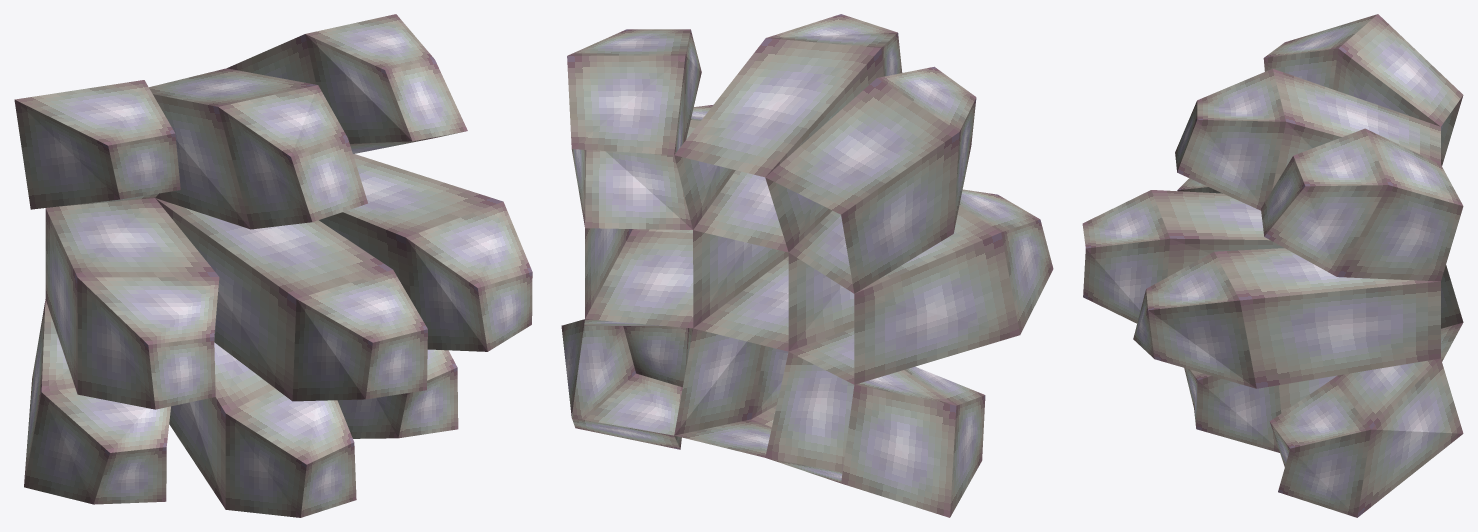
Rendered from strange_crystals_crystal.obj.
3 renders of one model, left to right at view 1: azimuth 30°, elevation 25°; view 2: azimuth 150°, elevation 25°; view 3: azimuth 270°, elevation 25°, orthographic. The views are drawn at different scales.
Parts seen in each view (by area): view 1: Crystal; view 2: Crystal; view 3: Crystal.
Part boxes in pixels (x1,y1,x2,y2): Crystal: [14, 14, 532, 517]; Crystal: [561, 14, 1053, 517]; Crystal: [1082, 14, 1463, 517].
Size of the model in its own units: 0.7633 by 0.7513 by 0.7343.
